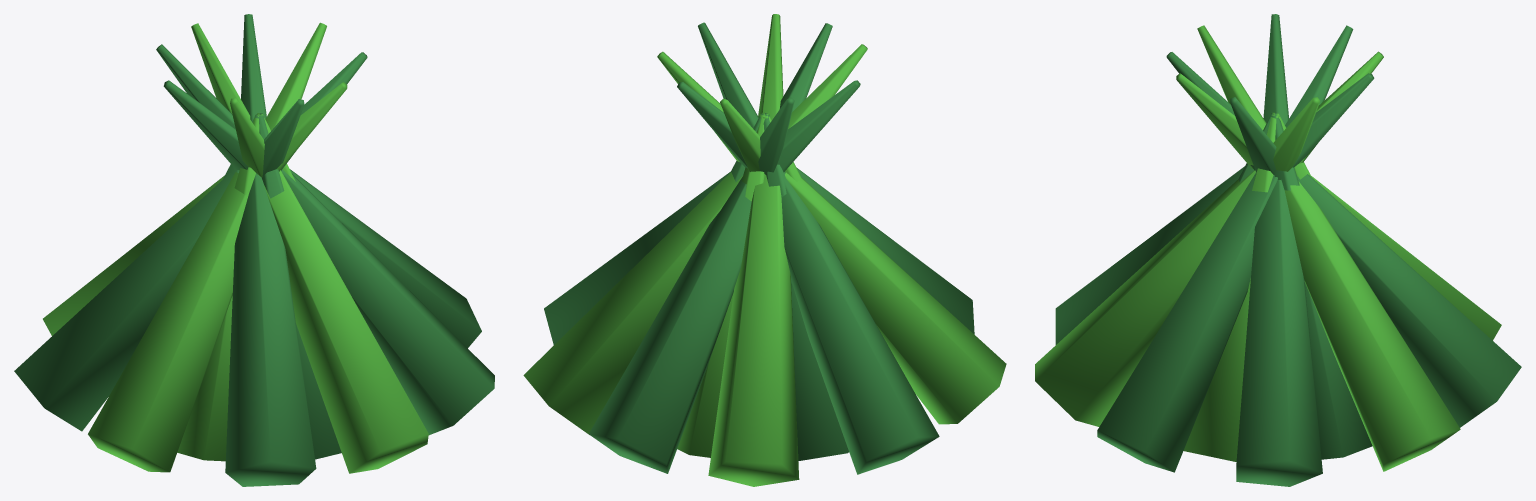
The model's file is hd_fern.gltf.
3 renders of one model, left to right at view 1: azimuth 30°, elevation 25°; view 2: azimuth 150°, elevation 25°; view 3: azimuth 270°, elevation 25°, orthographic.
Visible parts, largest first — view 1: f0_6, f0_5, f0_7, f0_8, f0_4, f0_0, f1_3, f0_3, f1_4, f0_2, f0_1; view 2: f0_3, f0_4, f0_2, f0_5, f0_1, f0_0, f1_2, f0_6, f1_1, f0_8, f0_7; view 3: f0_0, f0_1, f0_8, f0_7, f0_2, f0_6, f1_5, f1_0, f0_3, f0_5, f0_4.
Part boxes in pixels (x1,y1,x2,y2): f0_6: [225, 14, 316, 486]; f0_5: [88, 22, 326, 472]; f0_7: [191, 23, 428, 473]; f0_8: [156, 44, 494, 435]; f0_4: [14, 52, 367, 431]; f0_0: [163, 80, 481, 348]; f1_3: [177, 115, 259, 461]; f0_3: [43, 82, 347, 335]; f1_4: [259, 115, 341, 459]; f0_2: [262, 99, 304, 176]; f0_1: [230, 98, 264, 177]; f0_3: [708, 14, 799, 486]; f0_4: [698, 22, 939, 474]; f0_2: [589, 23, 832, 473]; f0_5: [657, 51, 1006, 424]; f0_1: [523, 44, 867, 434]; f0_0: [544, 80, 860, 344]; f1_2: [763, 114, 848, 461]; f0_6: [677, 82, 974, 334]; f1_1: [677, 115, 765, 457]; f0_8: [758, 97, 794, 174]; f0_7: [720, 98, 760, 171]; f0_0: [1236, 14, 1322, 486]; f0_1: [1197, 25, 1460, 471]; f0_8: [1097, 25, 1353, 472]; f0_7: [1035, 51, 1383, 426]; f0_2: [1166, 52, 1521, 427]; f0_6: [1055, 73, 1374, 344]; f1_5: [1183, 114, 1279, 461]; f1_0: [1271, 114, 1372, 459]; f0_3: [1176, 73, 1501, 340]; f0_5: [1273, 97, 1320, 171]; f0_4: [1230, 97, 1276, 174].
Bounding box in the file's own units: 0.9062 × 0.7688 × 0.9139.
